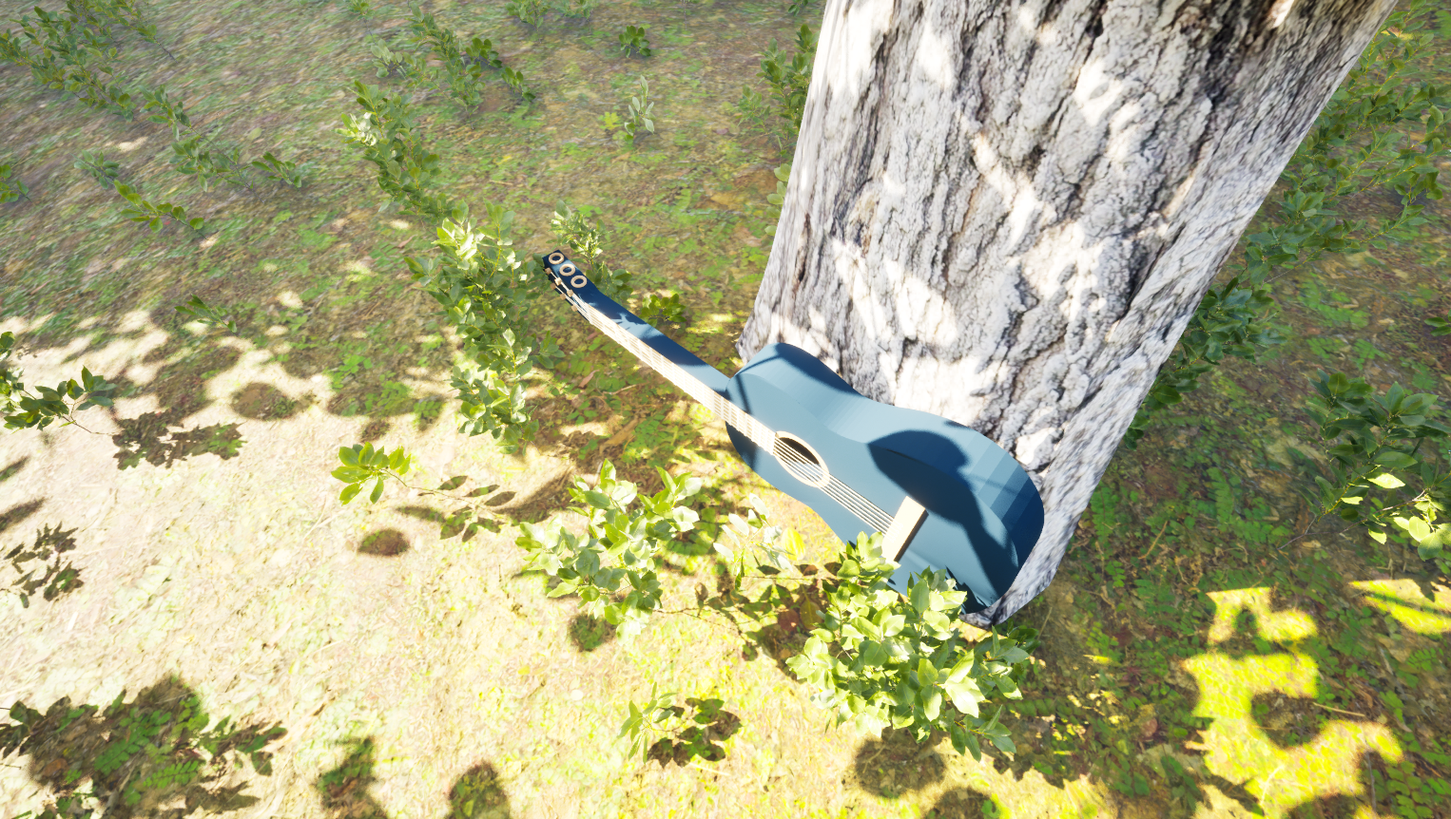Guitar: (502, 170, 1088, 640)
